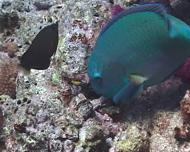Scaridae -Parrotfishes-: (83, 3, 190, 106)
